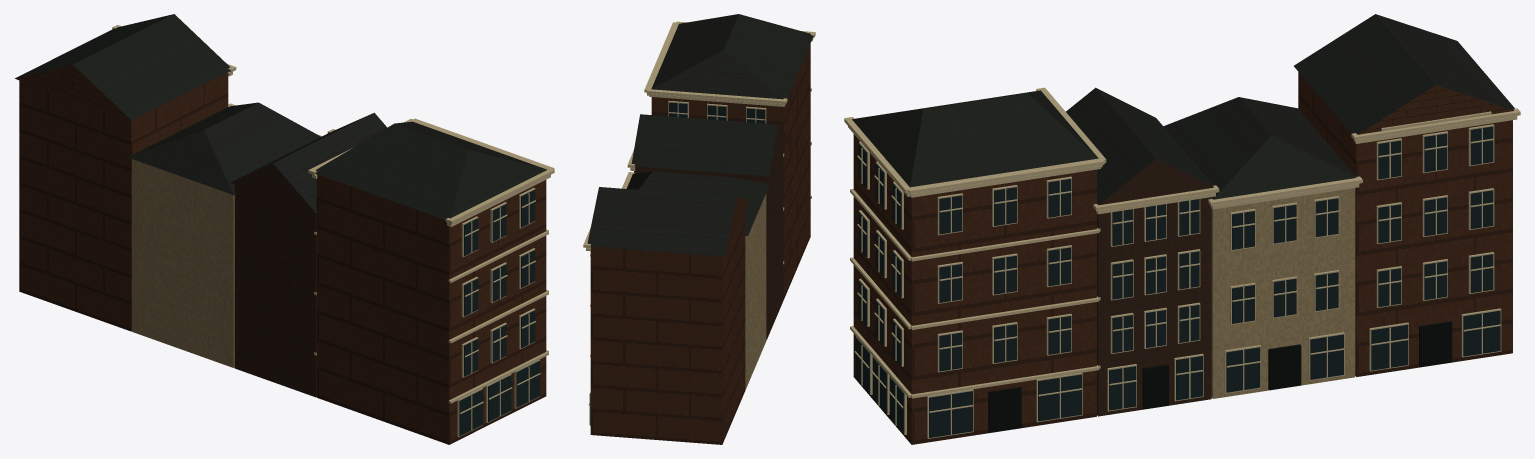
The picture shows the model from 3 angles, left to right: view 1: azimuth 30°, elevation 25°; view 2: azimuth 150°, elevation 25°; view 3: azimuth 270°, elevation 25°; orthographic projection. The views are drawn at different scales.
Visible parts, largest first — view 1: korte-wijnbrugstraat-0, korte-wijnbrugstraat-1, korte-wijnbrugstraat-6, korte-wijnbrugstraat-5, korte-wijnbrugstraat-2, korte-wijnbrugstraat-3; view 2: korte-wijnbrugstraat-0, korte-wijnbrugstraat-1, korte-wijnbrugstraat-5, korte-wijnbrugstraat-6, korte-wijnbrugstraat-2, korte-wijnbrugstraat-3; view 3: korte-wijnbrugstraat-0, korte-wijnbrugstraat-1, korte-wijnbrugstraat-3, korte-wijnbrugstraat-2, korte-wijnbrugstraat-6, korte-wijnbrugstraat-5, korte-wijnbrugstraat-4.
Part boxes in pixels (box(x1,y1,x2,y2)): korte-wijnbrugstraat-0: box(15, 65, 546, 444); korte-wijnbrugstraat-1: box(15, 14, 547, 219); korte-wijnbrugstraat-6: box(132, 159, 234, 367); korte-wijnbrugstraat-5: box(230, 163, 316, 397); korte-wijnbrugstraat-2: box(112, 25, 554, 437); korte-wijnbrugstraat-3: box(459, 189, 539, 436); korte-wijnbrugstraat-0: box(590, 44, 810, 444); korte-wijnbrugstraat-1: box(587, 14, 813, 256); korte-wijnbrugstraat-5: box(634, 125, 786, 340); korte-wijnbrugstraat-6: box(745, 193, 766, 389); korte-wijnbrugstraat-2: box(583, 21, 815, 426); korte-wijnbrugstraat-3: box(589, 102, 765, 424); korte-wijnbrugstraat-0: box(853, 72, 1514, 444); korte-wijnbrugstraat-1: box(852, 14, 1514, 204); korte-wijnbrugstraat-3: box(855, 126, 1500, 437); korte-wijnbrugstraat-2: box(844, 87, 1520, 438); korte-wijnbrugstraat-6: box(1211, 188, 1355, 398); korte-wijnbrugstraat-5: box(1097, 159, 1213, 416); korte-wijnbrugstraat-4: box(988, 321, 1452, 432).
Bounding box in the file's own units: 25.26 × 21 × 43.53.
7 materials, 7 textured.
